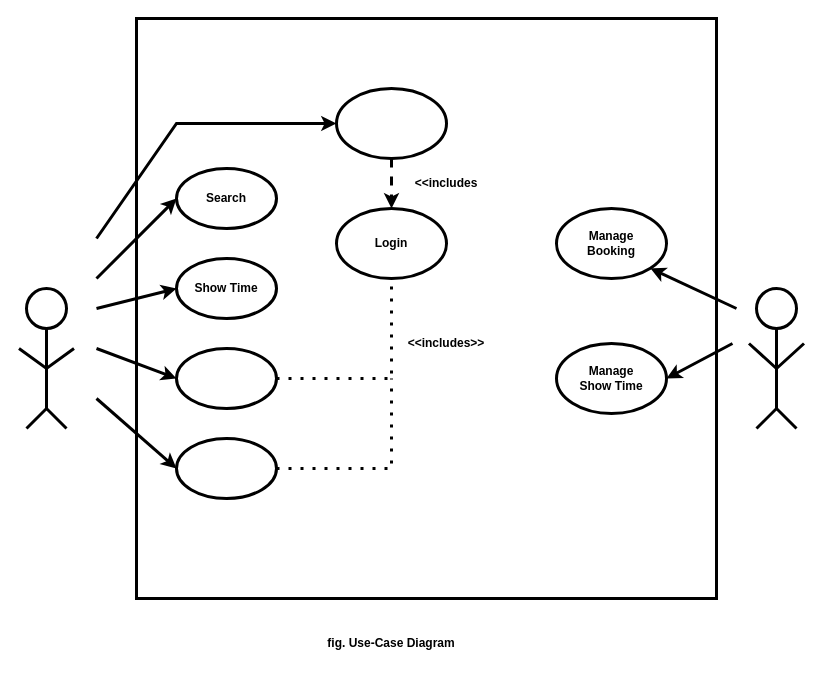
Some shapes in this 823 by 676 pixel diagram are drawn without their labels. Each missing label, with the centre of its shape:
Book a Movie: (391,123)
Cancel Booking: (226,468)
Payment: (226,378)
